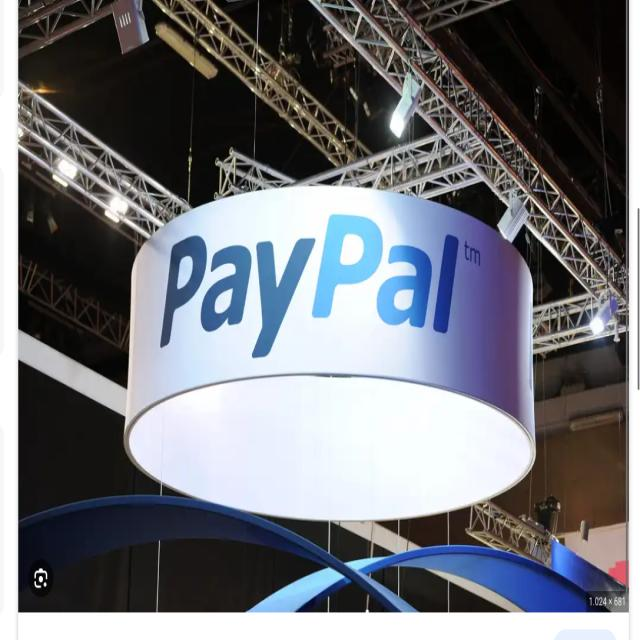paypal_txt: (160, 213, 459, 358)
